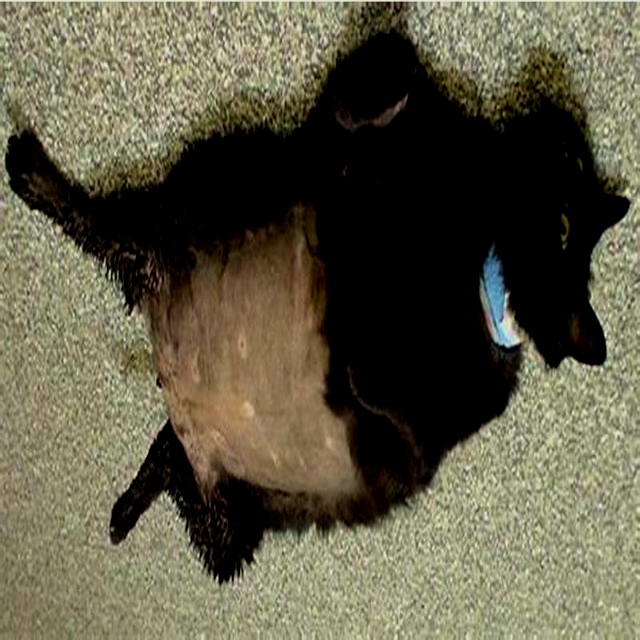hairloss: (156, 267, 357, 492)
